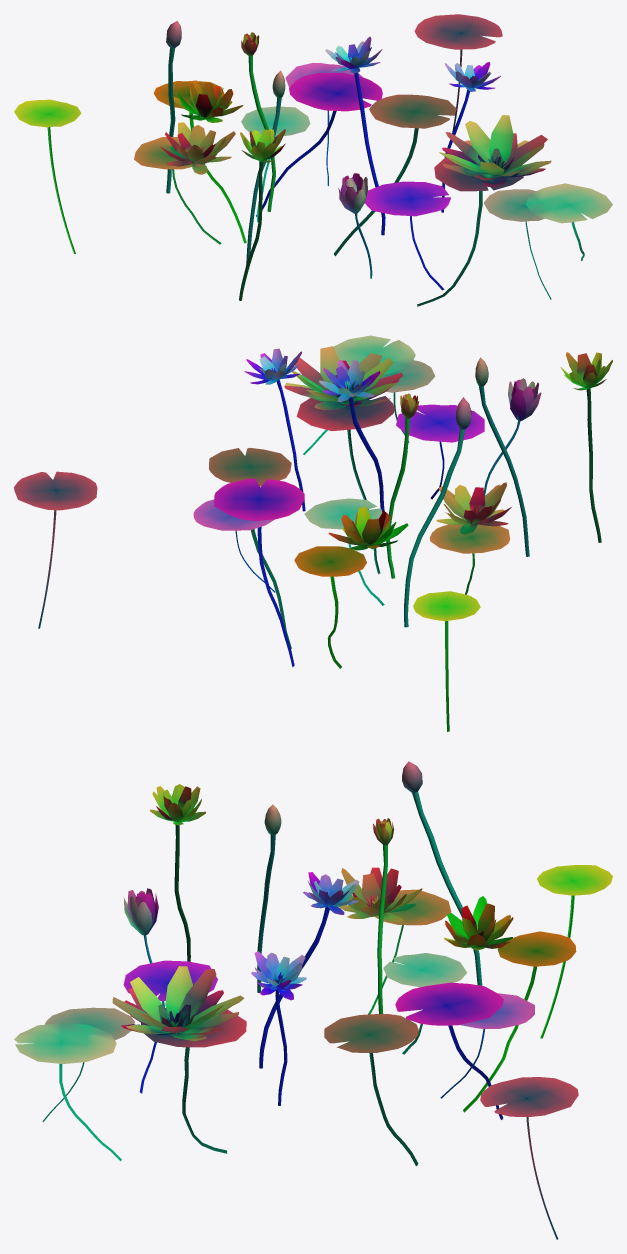
Rendered from Rembrandt_Water_Lily_uc2kajgia_High_uc2kajgia_VarF_LOD0.fbx.
The picture shows the model from 3 angles, top to bottom: view 1: azimuth 30°, elevation 25°; view 2: azimuth 150°, elevation 25°; view 3: azimuth 270°, elevation 25°; orthographic projection. The views are drawn at different scales.
Visible parts, largest first — view 1: _577a_VarF_LOD0; view 2: _577a_VarF_LOD0; view 3: _577a_VarF_LOD0.
Part boxes in pixels (x1,y1,x2,y2): _577a_VarF_LOD0: [14, 14, 612, 306]; _577a_VarF_LOD0: [14, 335, 612, 731]; _577a_VarF_LOD0: [14, 761, 612, 1239].
Size of the model in its own units: 146 by 85.19 by 146.
